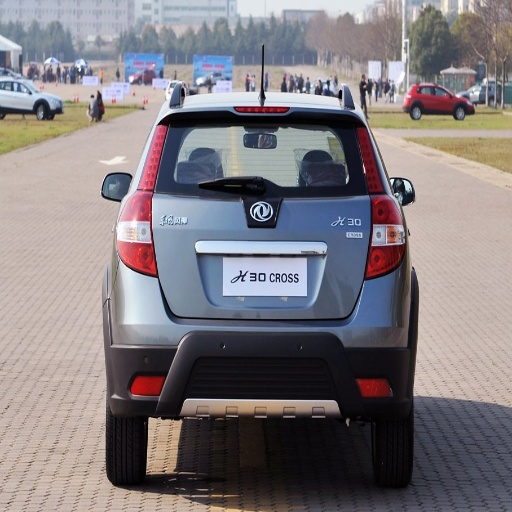back_bumper: (106, 263, 413, 430)
tailgate: (152, 204, 369, 319)
trunk: (153, 185, 375, 253)
